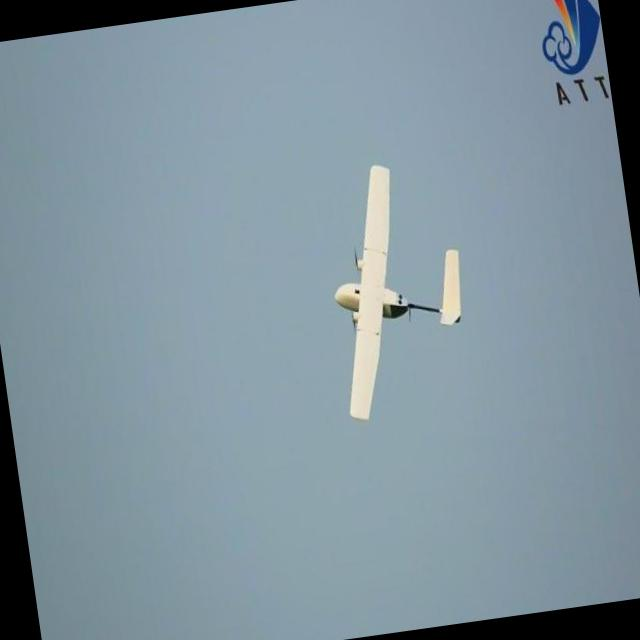UAV: (272, 133, 486, 433)
